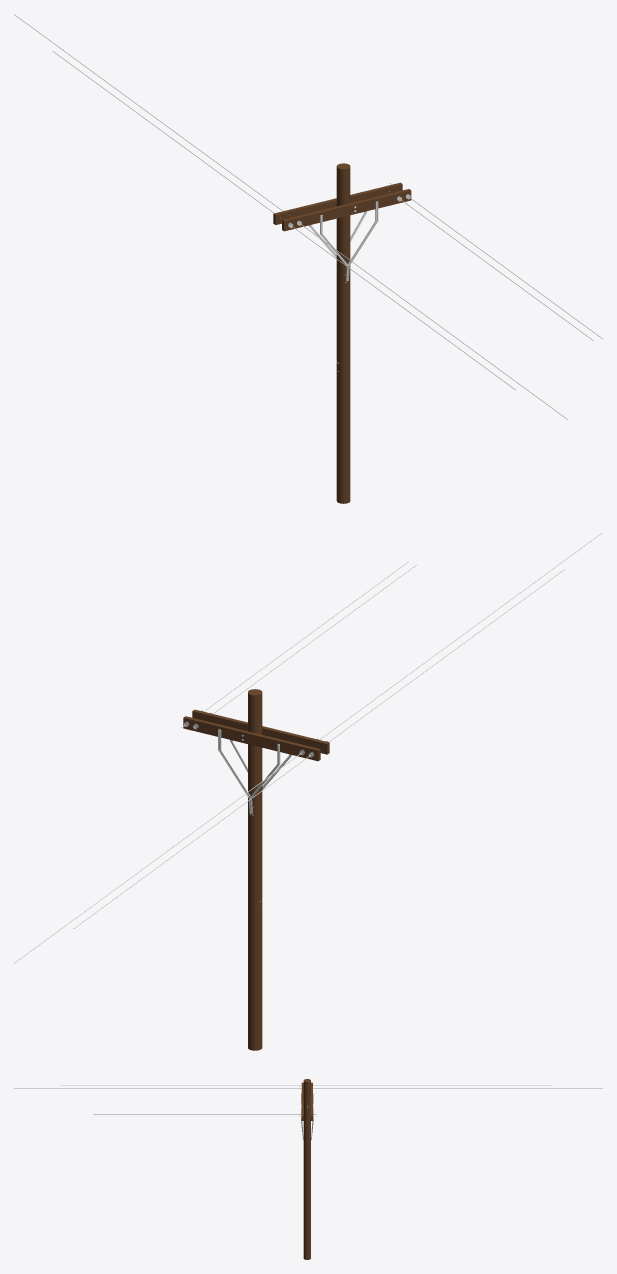
Rendered from elektrik direği.fbx.
3 renders of one model, top to bottom at view 1: azimuth 30°, elevation 25°; view 2: azimuth 150°, elevation 25°; view 3: azimuth 270°, elevation 25°, orthographic. The views are drawn at different scales.
Visible parts, largest first — view 1: Cylinder, Cube.001, Cube; view 2: Cylinder, Cube, Cube.001; view 3: Cylinder, Cylinder.057, Cylinder.062.
Part boxes in pixels (left/top/right/bottom): Cylinder: left=336, top=163, right=350, bottom=503; Cube.001: left=282, top=189, right=411, bottom=231; Cube: left=273, top=182, right=402, bottom=224; Cylinder: left=248, top=689, right=262, bottom=1050; Cube: left=183, top=716, right=320, bottom=761; Cube.001: left=192, top=709, right=329, bottom=754; Cylinder: left=303, top=1079, right=310, bottom=1259; Cylinder.057: left=316, top=1088, right=602, bottom=1088; Cylinder.062: left=14, top=1088, right=297, bottom=1088.
Bounding box in the file's own units: 476 × 1195 × 3588.
